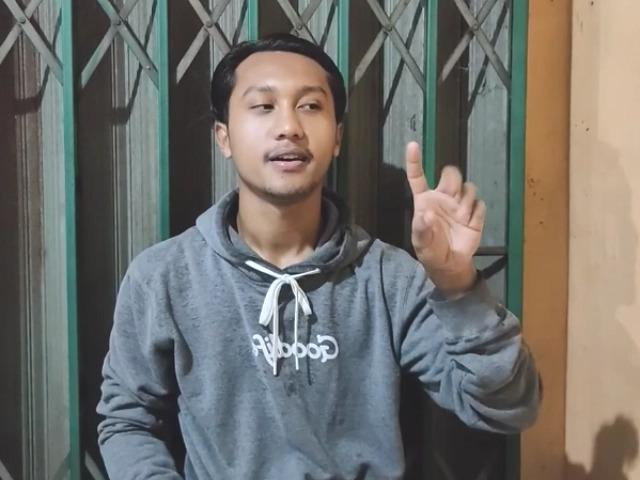X: (400, 140, 486, 262)
